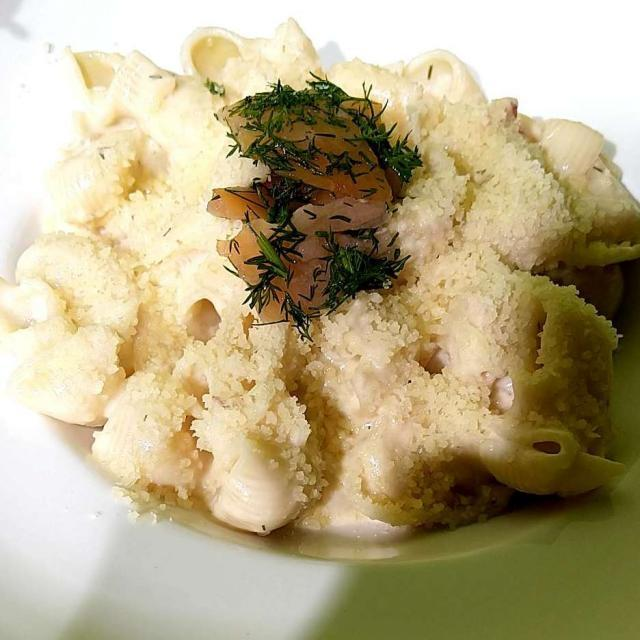cheese: (60, 48, 580, 498)
pasta: (23, 22, 622, 541)
salmon: (194, 66, 410, 330)
